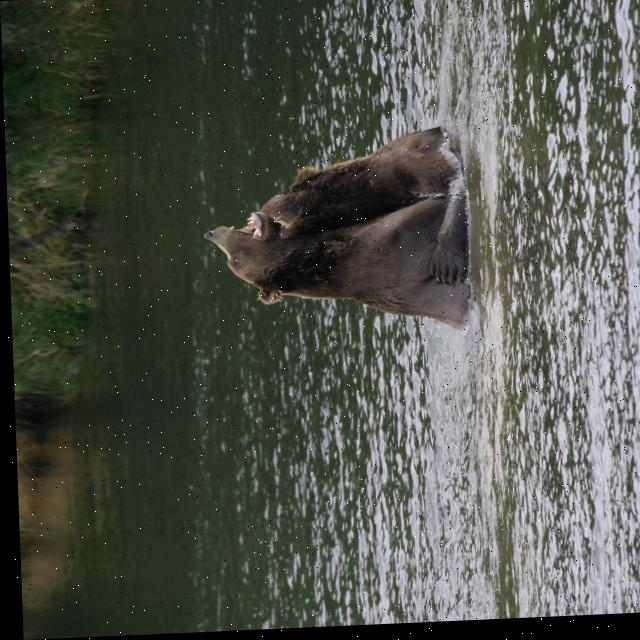bear face: (197, 205, 462, 330), (237, 130, 446, 237)
